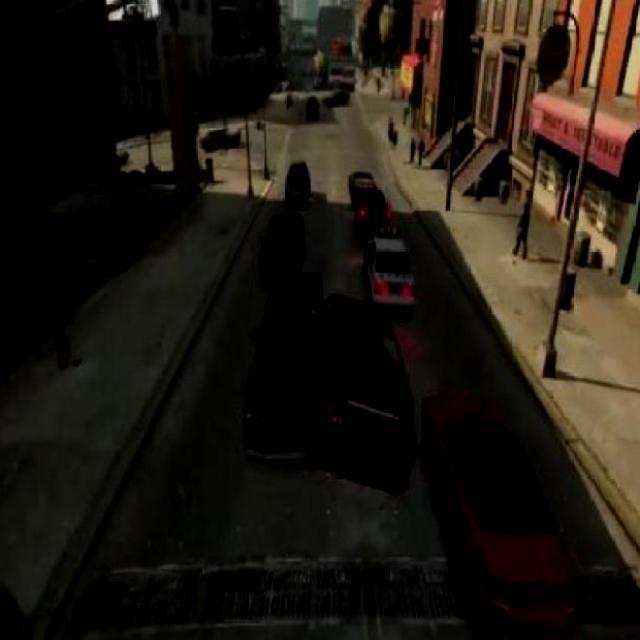accident: (272, 279, 396, 468)
